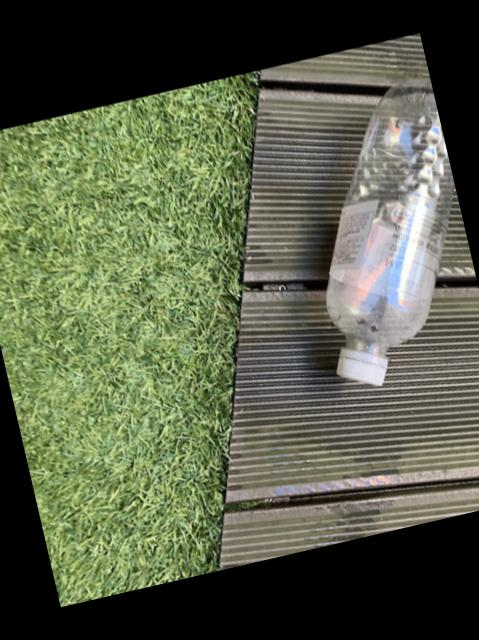plastic: (327, 80, 454, 386)
